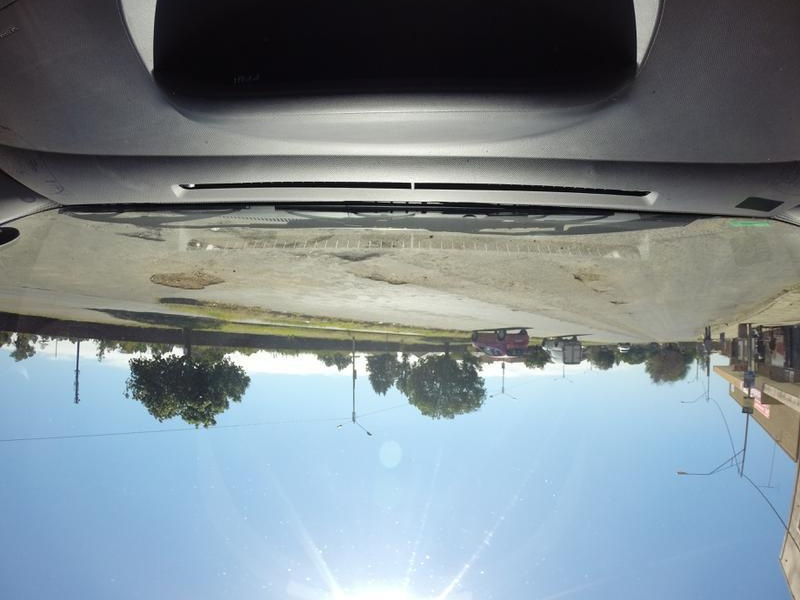pothole: (133, 266, 245, 298), (356, 274, 417, 290), (116, 233, 178, 247), (327, 253, 388, 267), (571, 271, 599, 285)
